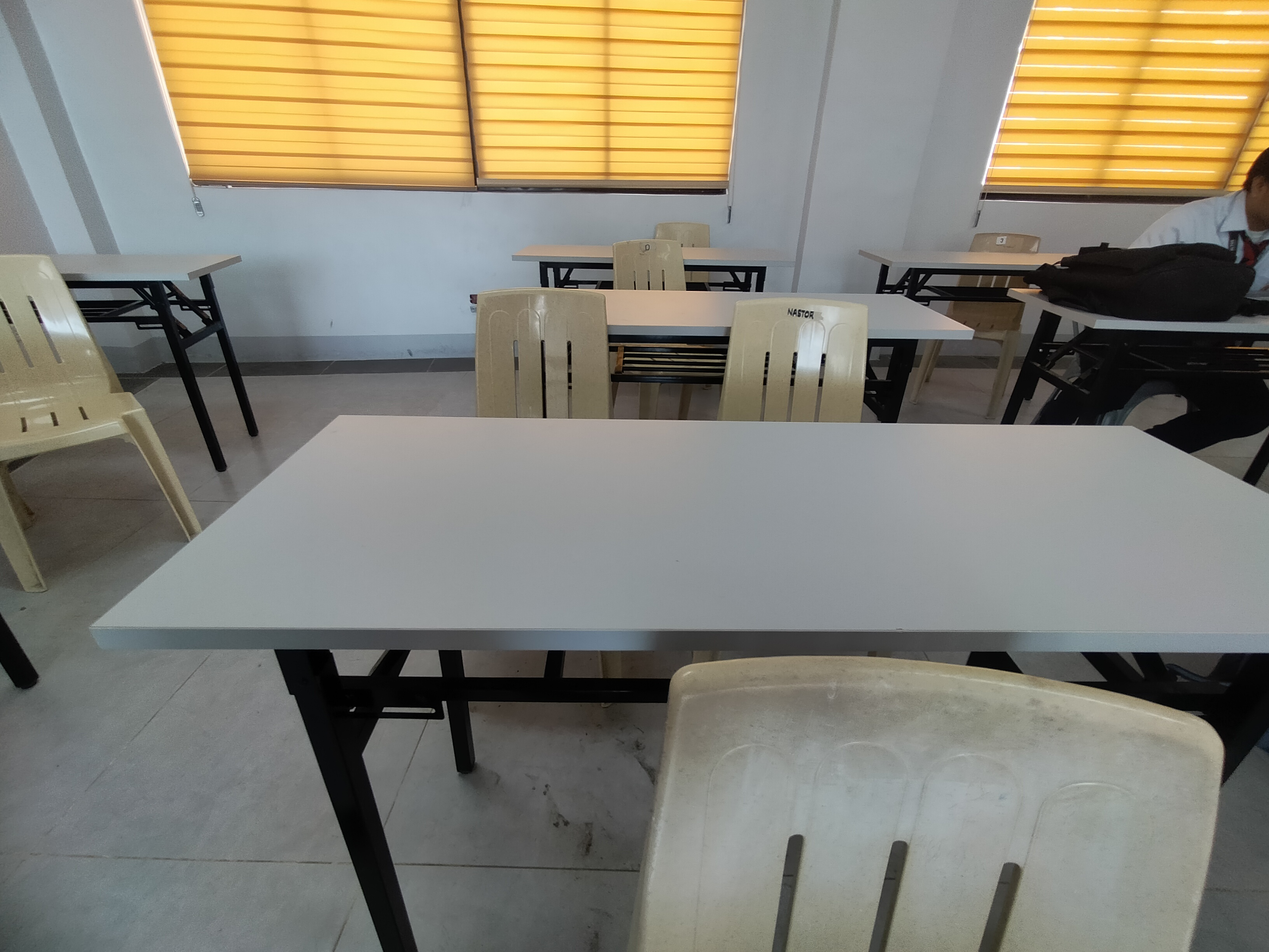with-student: (1006, 128, 1269, 421)
